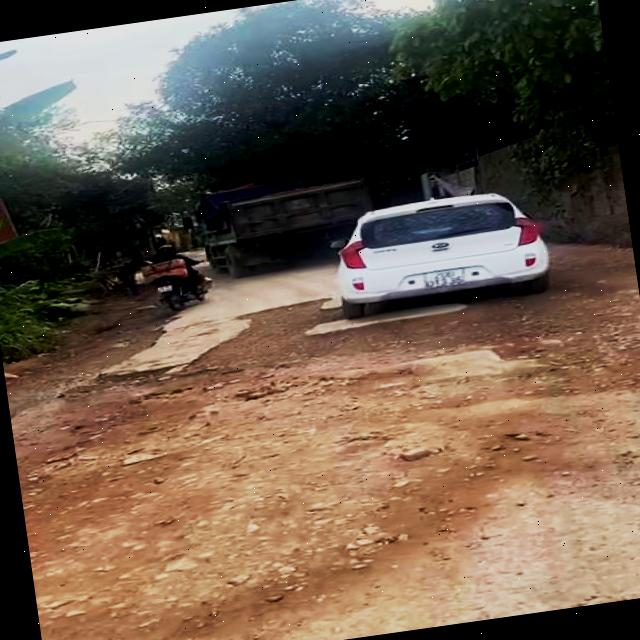pothole: (29, 331, 424, 482), (371, 282, 640, 431), (179, 290, 375, 384)
